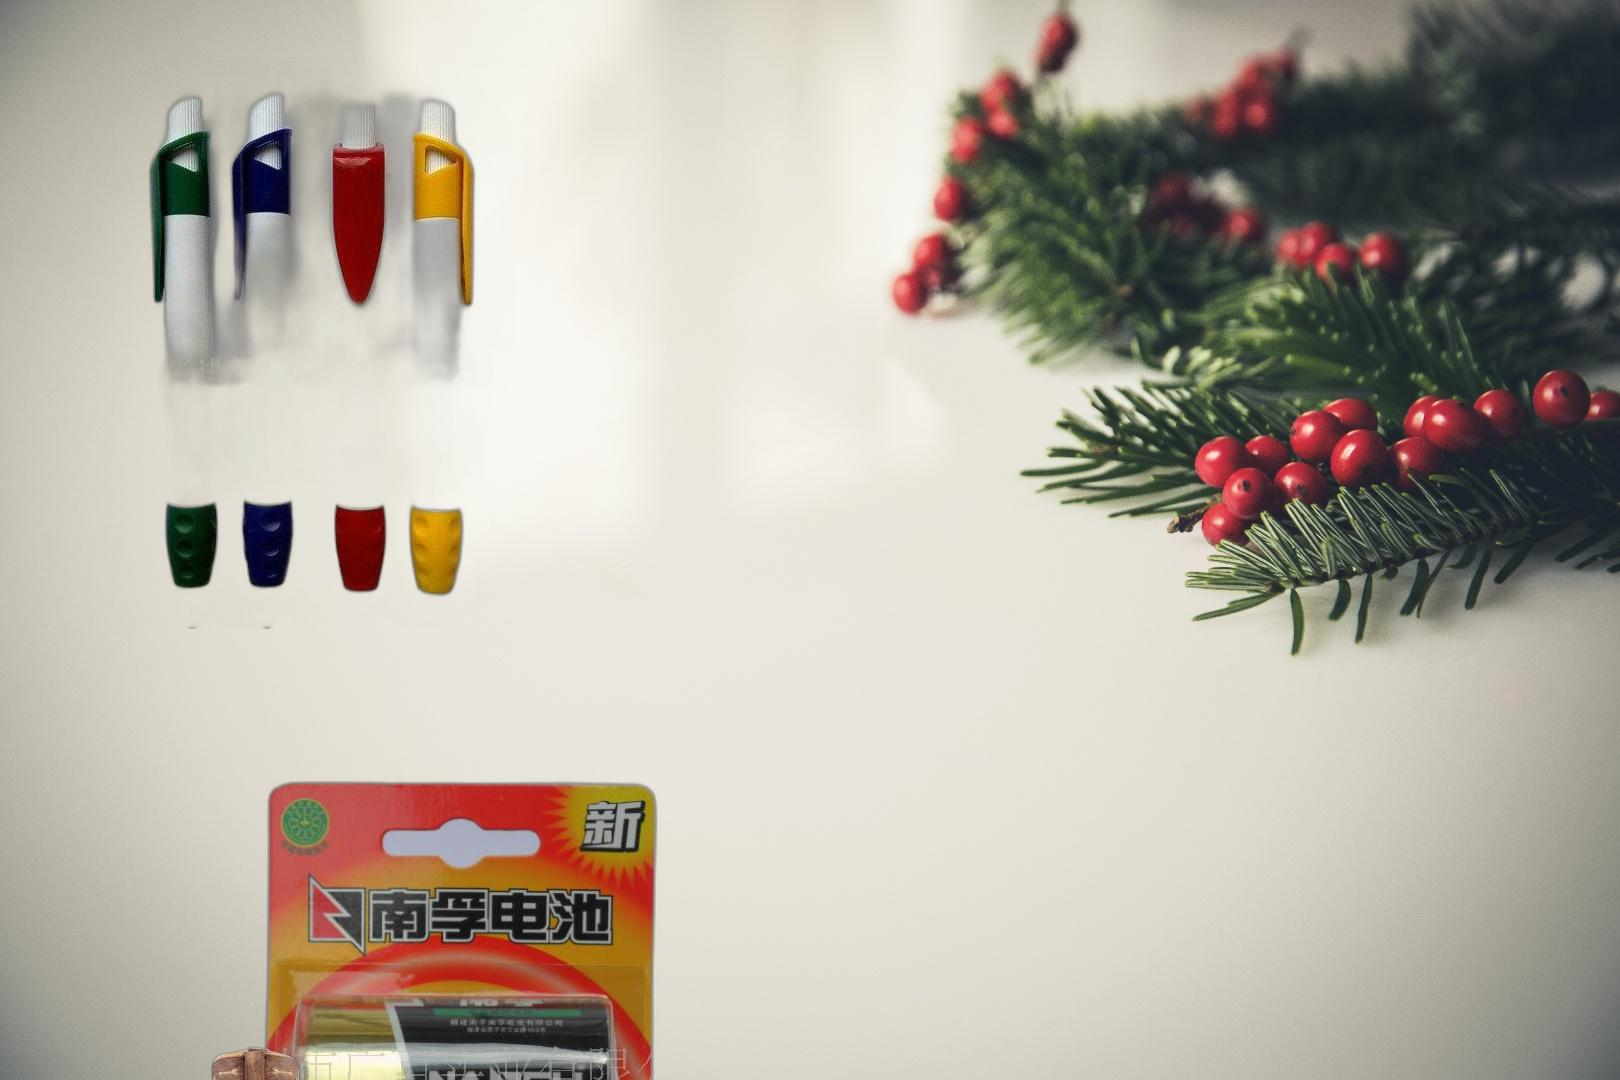battery: (259, 777, 661, 1080)
penholder: (65, 57, 533, 629)
shoes: (209, 1045, 393, 1080)
